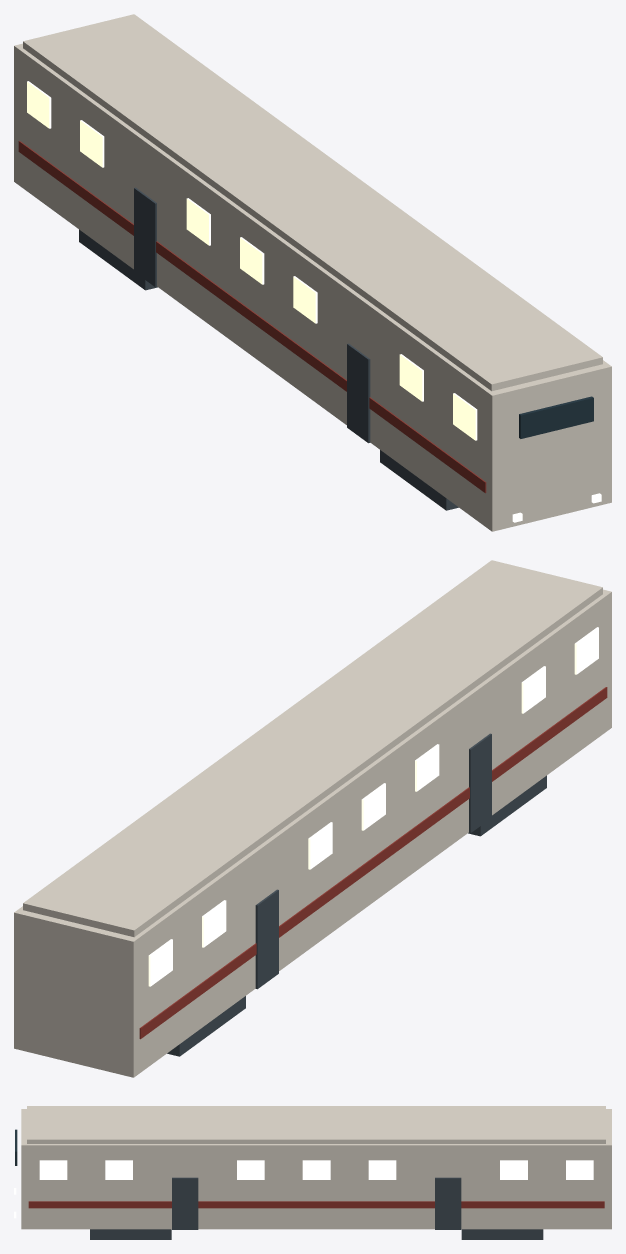
File: express-cab.glb
3 renders of one model, top to bottom at view 1: azimuth 30°, elevation 25°; view 2: azimuth 150°, elevation 25°; view 3: azimuth 270°, elevation 25°, orthographic. The views are drawn at different scales.
Bounding box in the file's own units: 3.02 × 3.84 × 20.45.
